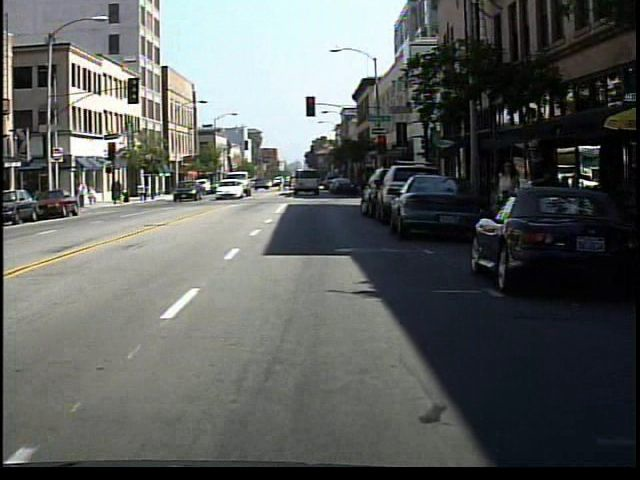person: (523, 138, 559, 261), (495, 155, 522, 257), (76, 179, 91, 211), (89, 183, 103, 209)
